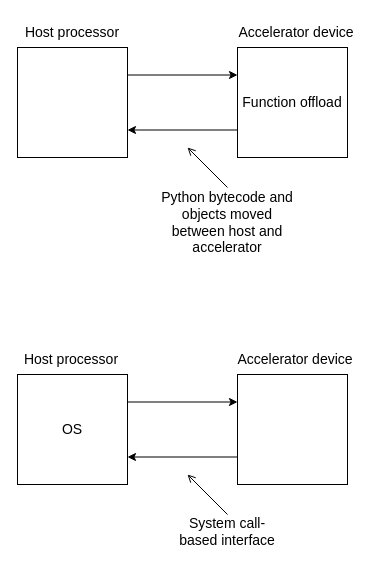
The diagram is 372 pixels wide and 565 high, and some of its shapes have lost their labels. Here are the shapes that lost their labels. From the top down, the box of each, then its label:
(16, 46, 128, 158): OS running Python interpreter
(236, 374, 348, 484): Python interpreter
